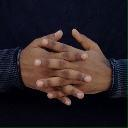hand: (18, 30, 93, 106), (34, 29, 114, 100)
